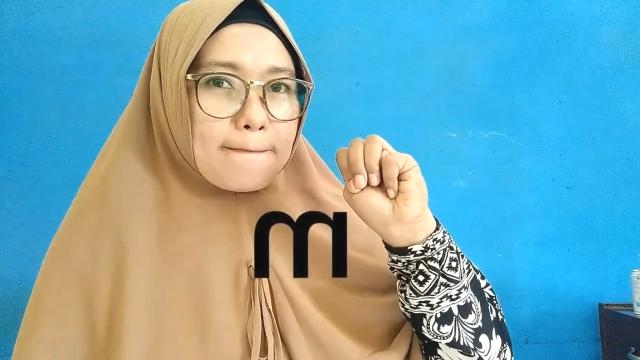M: (334, 130, 434, 240)
